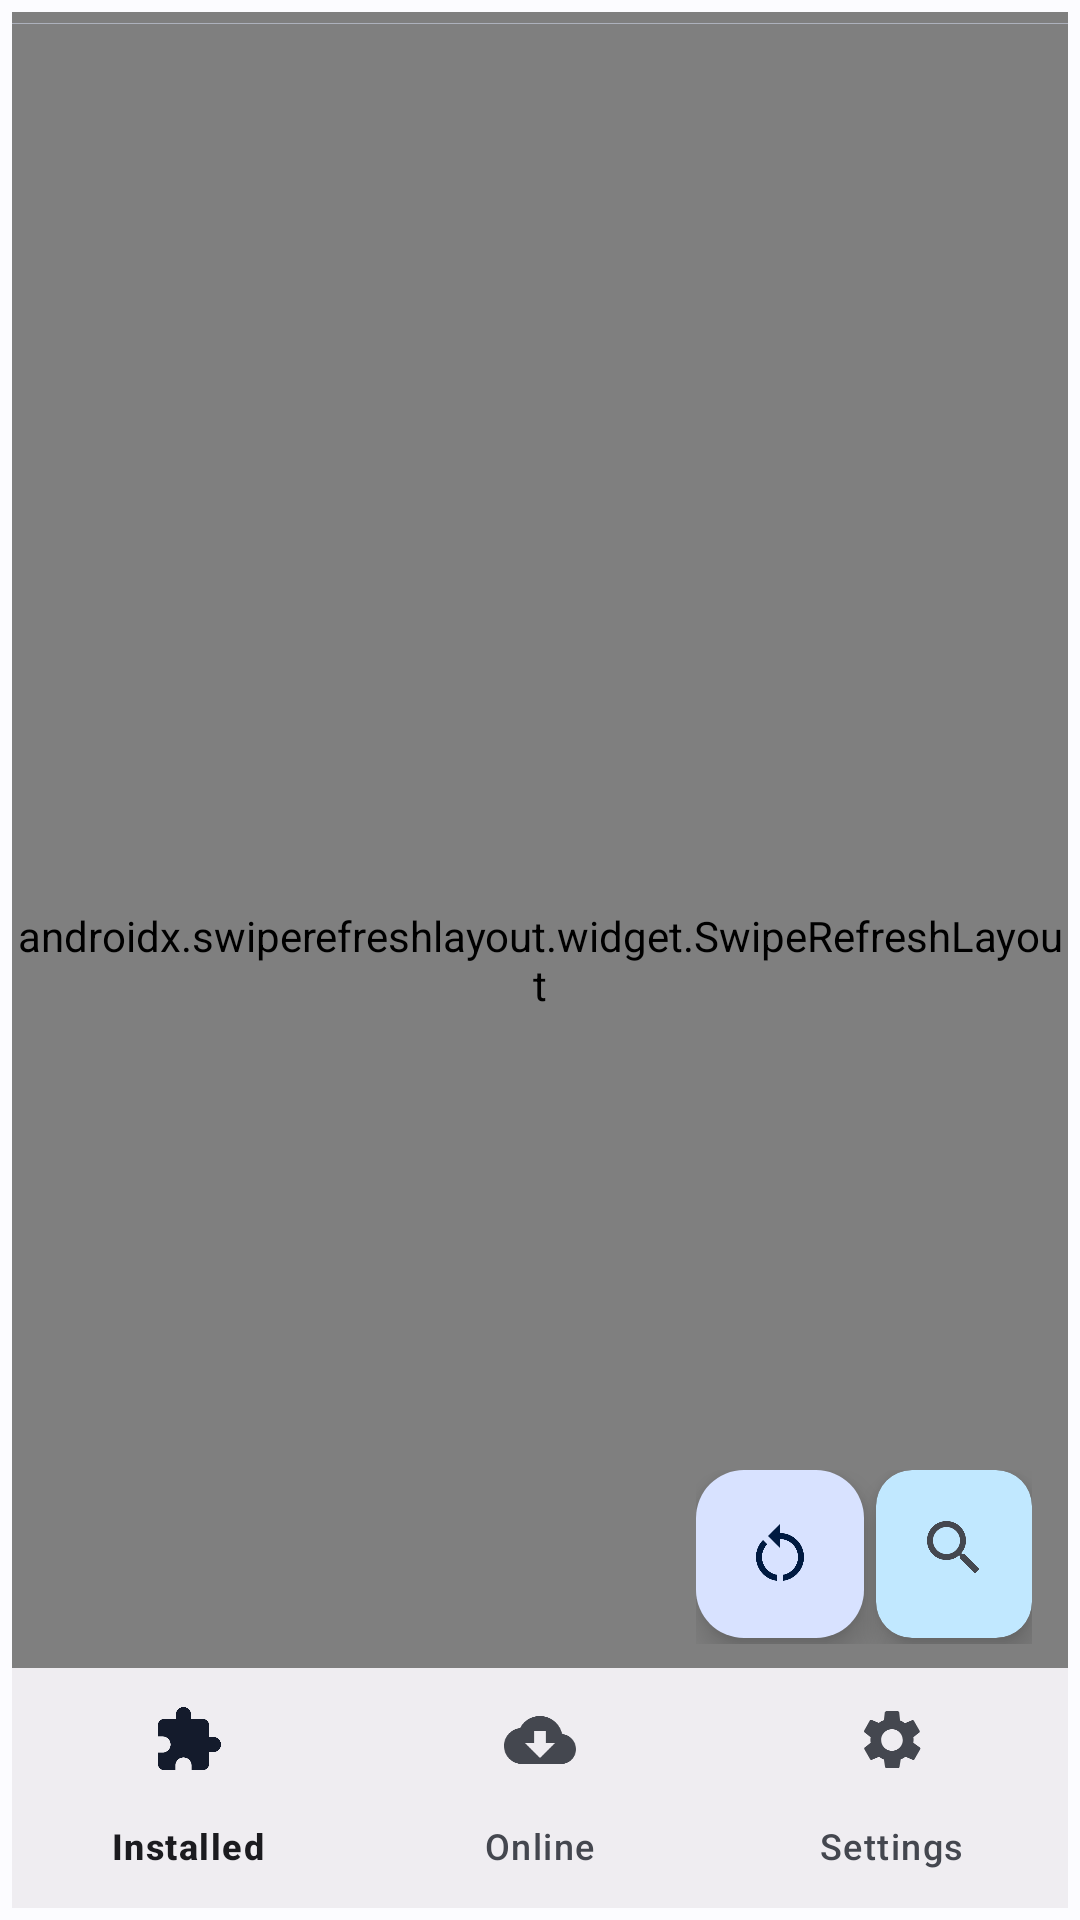

Icons on this 1080×1920 Android screen, each with its box as (x1, y1, x2, y2):
إعادة التشغيل: (696, 1470, 864, 1638)
